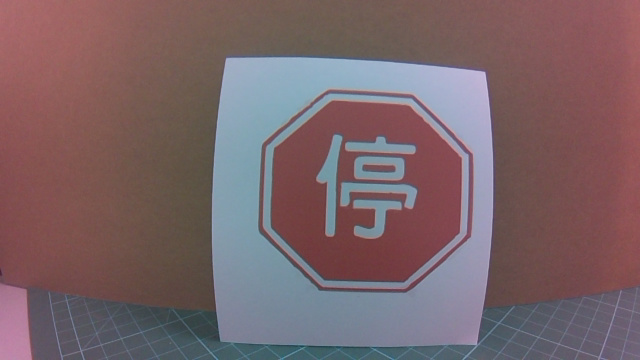stop: (267, 96, 453, 302)
